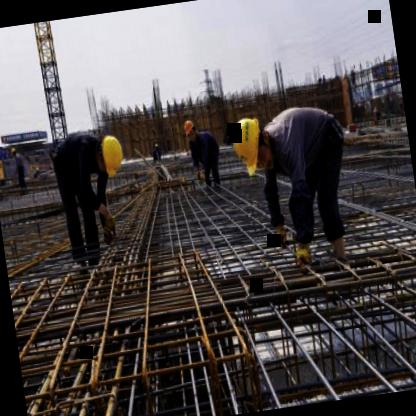helmet: (226, 112, 274, 178), (94, 128, 127, 180), (180, 116, 200, 147)
